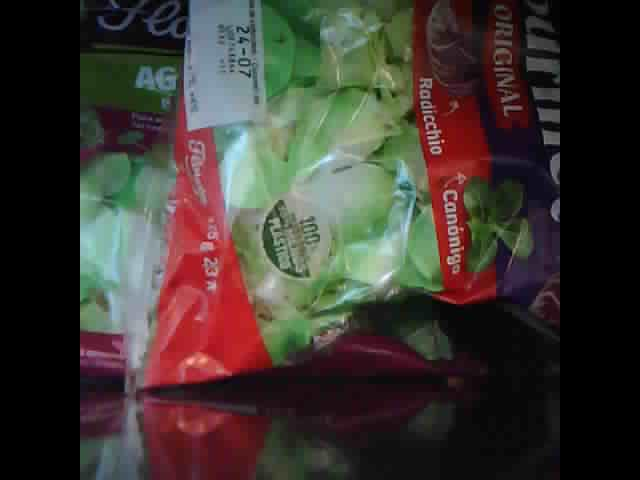florette: (125, 1, 557, 404), (81, 2, 199, 388)
